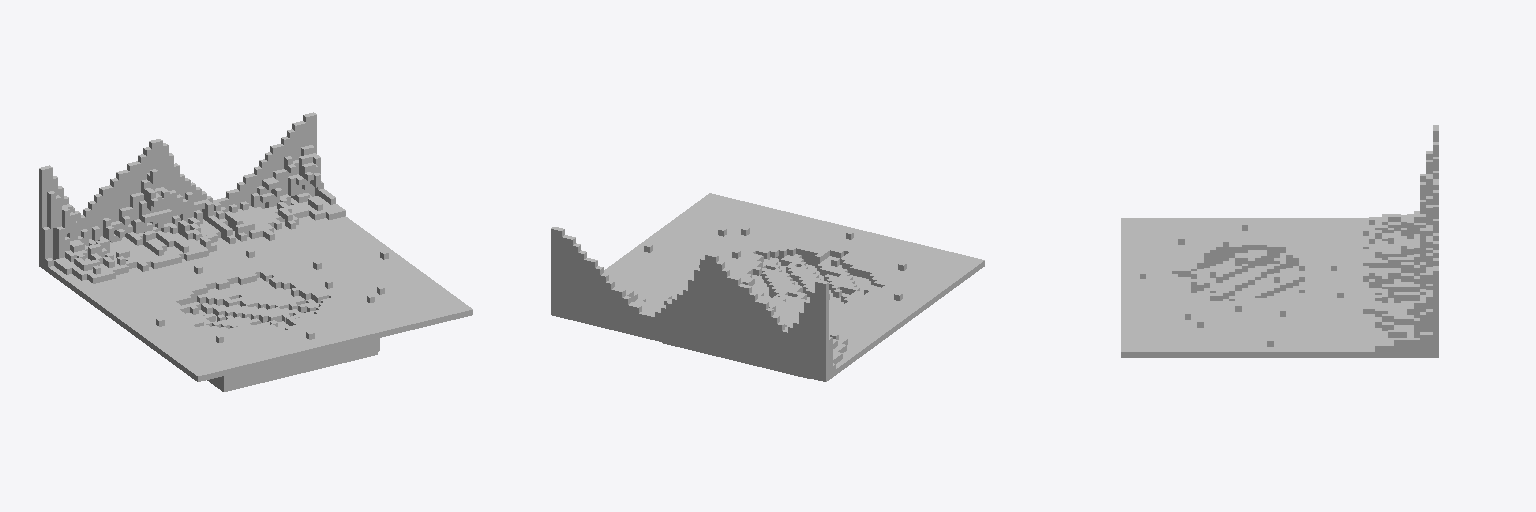
The model's file is Sol planche.obj.
3 renders of one model, left to right at view 1: azimuth 30°, elevation 25°; view 2: azimuth 150°, elevation 25°; view 3: azimuth 270°, elevation 25°, orthographic.
Parts seen in each view (by area): view 1: object 1; view 2: object 1; view 3: object 1.
Part boxes in pixels (x1,y1,x2,y2): object 1: (39, 112, 472, 391); object 1: (551, 193, 984, 381); object 1: (1121, 125, 1438, 357).
Size of the model in its own units: 5 by 2.2 by 5.